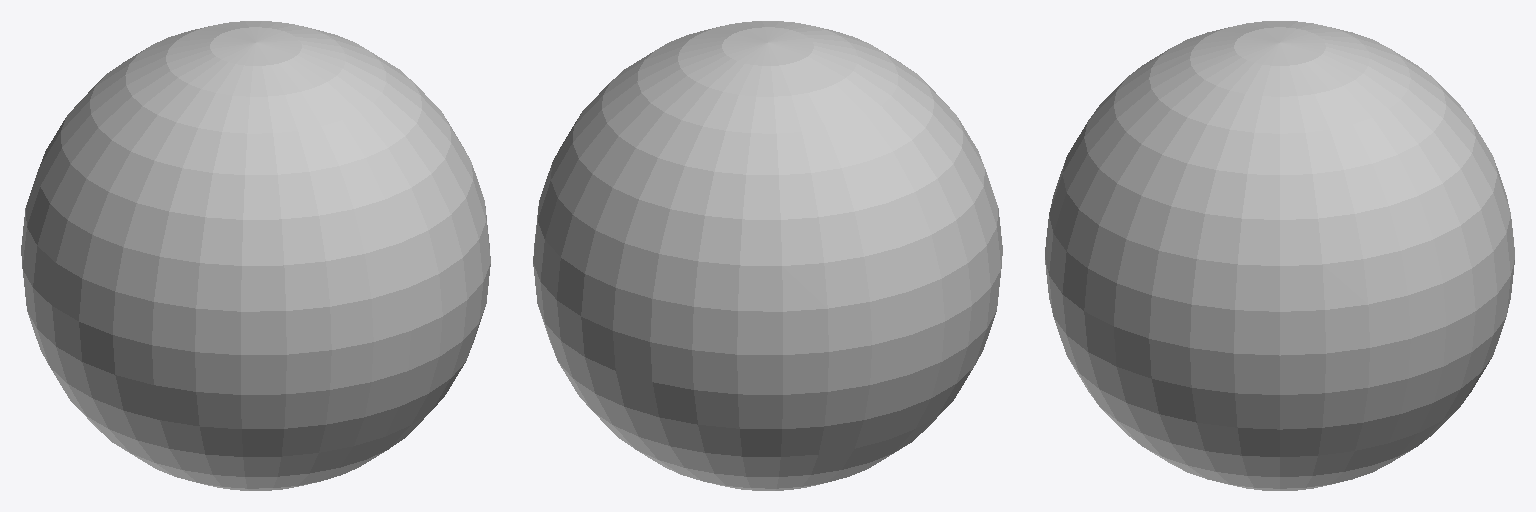
File: lechuga.obj
The picture shows the model from 3 angles: view 1: azimuth 30°, elevation 25°; view 2: azimuth 150°, elevation 25°; view 3: azimuth 270°, elevation 25°; orthographic projection.
Visible parts, largest first — view 1: Sphere; view 2: Sphere; view 3: Sphere.
Part boxes in pixels (bbox=[...]): Sphere: bbox=[21, 21, 490, 490]; Sphere: bbox=[533, 21, 1002, 490]; Sphere: bbox=[1045, 21, 1514, 490].
Bounding box in the file's own units: 0.1229 × 0.1229 × 0.1229.